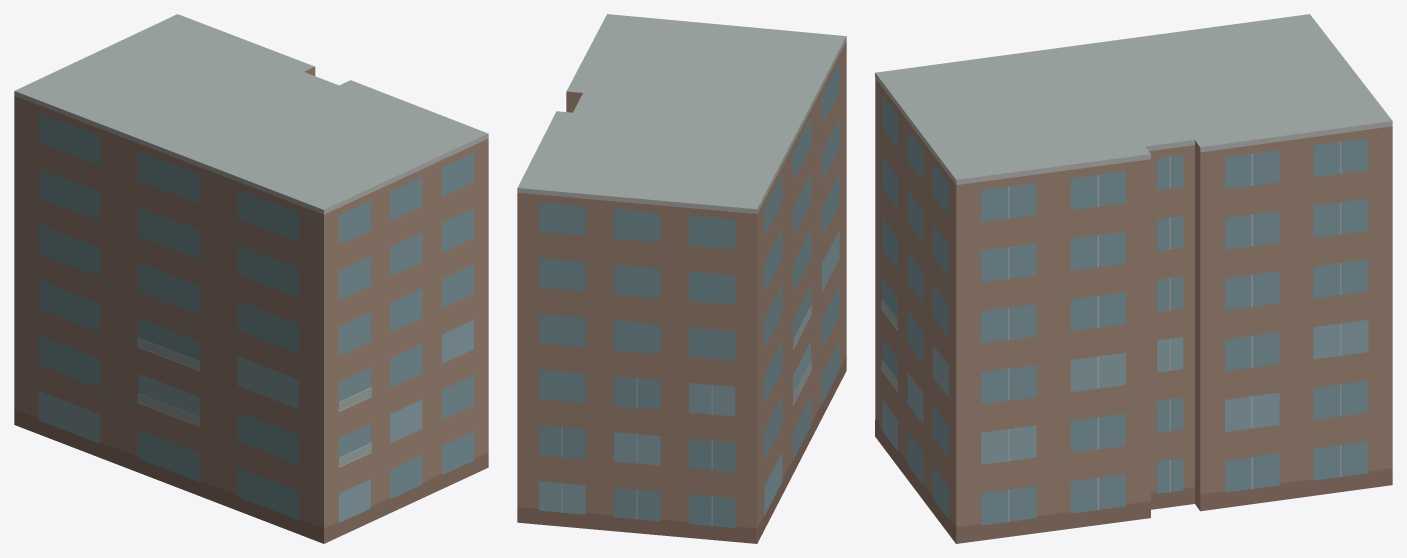
Rendered from survey-upis-33043007.glb.
3 views of the same model, side by side, from view 1: azimuth 30°, elevation 25°; view 2: azimuth 150°, elevation 25°; view 3: azimuth 270°, elevation 25° (orthographic). The views are drawn at different scales.
Parts seen in each view (by area): view 1: survey-upis-33043007.tmp; view 2: survey-upis-33043007.tmp; view 3: survey-upis-33043007.tmp.
Part boxes in pixels (box(x1,y1,x2,y2)): survey-upis-33043007.tmp: box(14, 14, 488, 543); survey-upis-33043007.tmp: box(517, 14, 846, 543); survey-upis-33043007.tmp: box(875, 14, 1392, 543).
Bounding box in the file's own units: 16.73 × 17.1 × 22.05.
